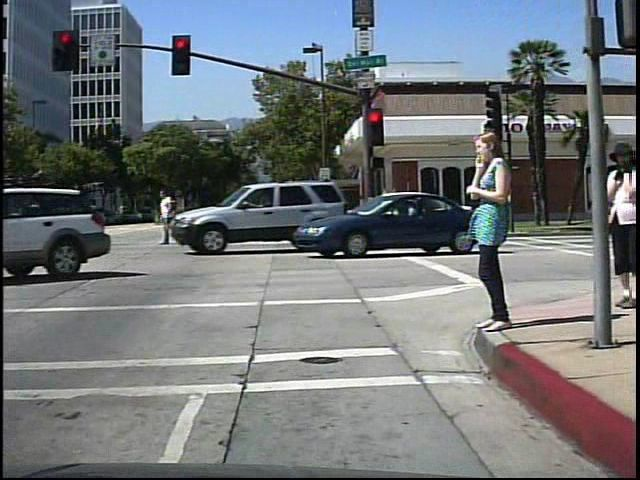person: (464, 122, 521, 337)
